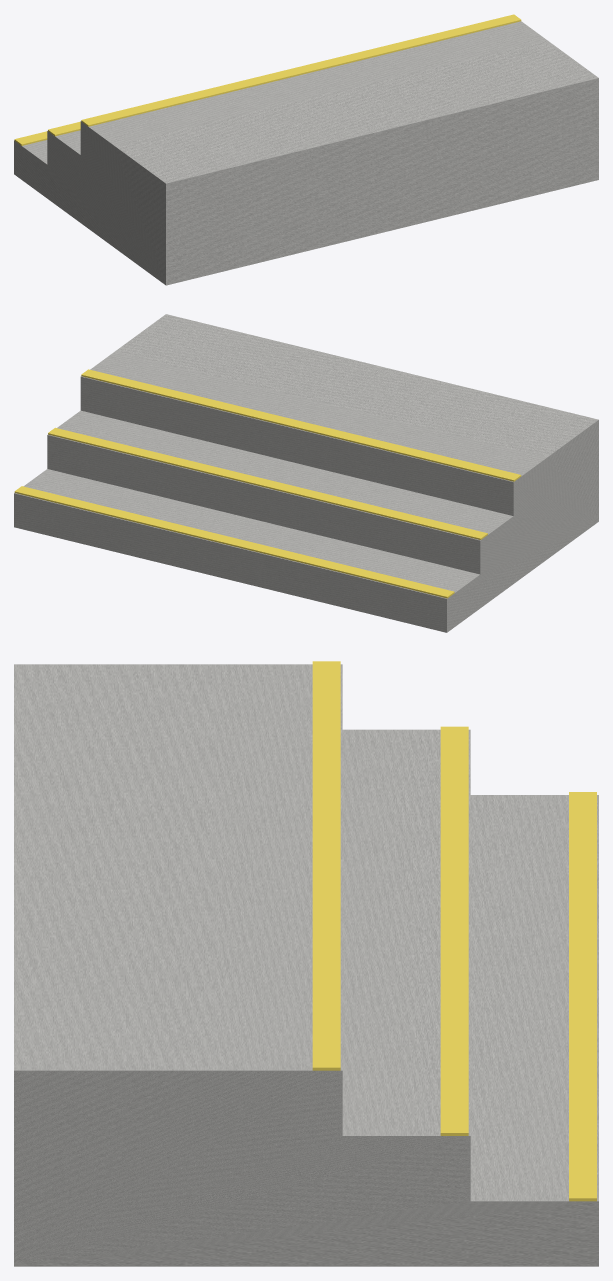
The model's file is skate-park-and-street-sports-concrete-stair-set-89bdd928__33523.glb.
3 views of the same model, one above another, from view 1: azimuth 30°, elevation 25°; view 2: azimuth 150°, elevation 25°; view 3: azimuth 270°, elevation 25° (orthographic). The views are drawn at different scales.
Visible parts, largest first — view 1: concrete-stair-set-concrete, concrete-stair-set-canary; view 2: concrete-stair-set-concrete, concrete-stair-set-canary; view 3: concrete-stair-set-concrete, concrete-stair-set-canary.
Boxes of the visible parts, left/top/right/bottom form: concrete-stair-set-concrete: left=14, top=21, right=598, bottom=285; concrete-stair-set-canary: left=14, top=14, right=521, bottom=145; concrete-stair-set-concrete: left=14, top=314, right=598, bottom=632; concrete-stair-set-canary: left=14, top=369, right=521, bottom=598; concrete-stair-set-concrete: left=14, top=664, right=598, bottom=1266; concrete-stair-set-canary: left=312, top=661, right=596, bottom=1201.
Size of the model in its own units: 2.4 by 0.548 by 1.46.
2 materials, 1 textured.
